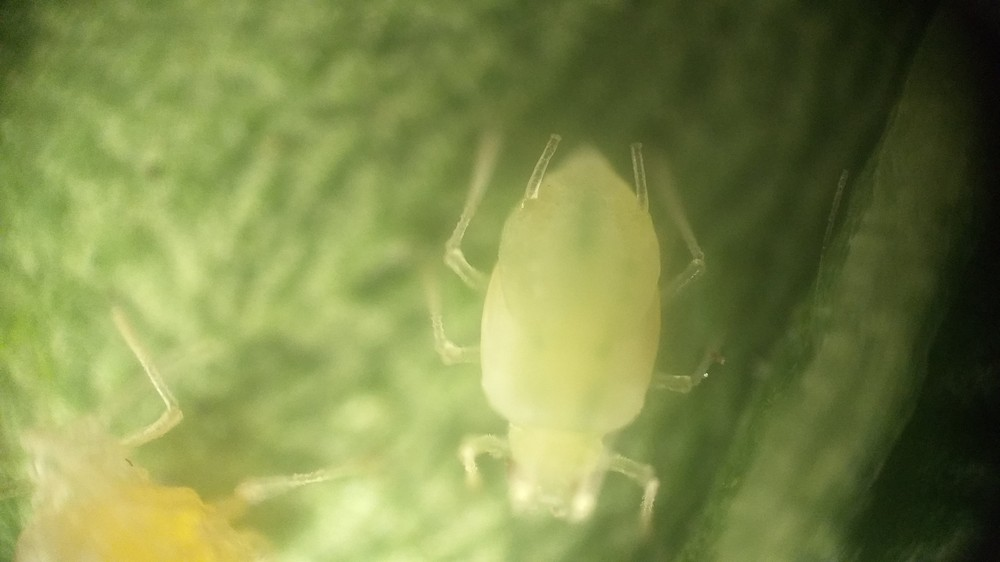Pulgon: (389, 123, 768, 554)
